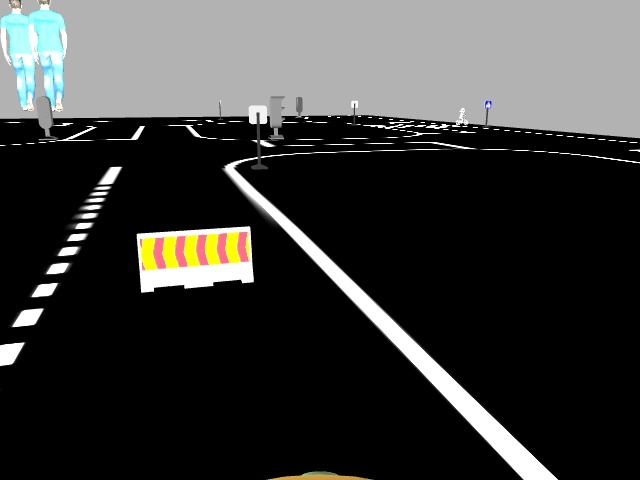ClosedRoadStand: (137, 233, 253, 278)
